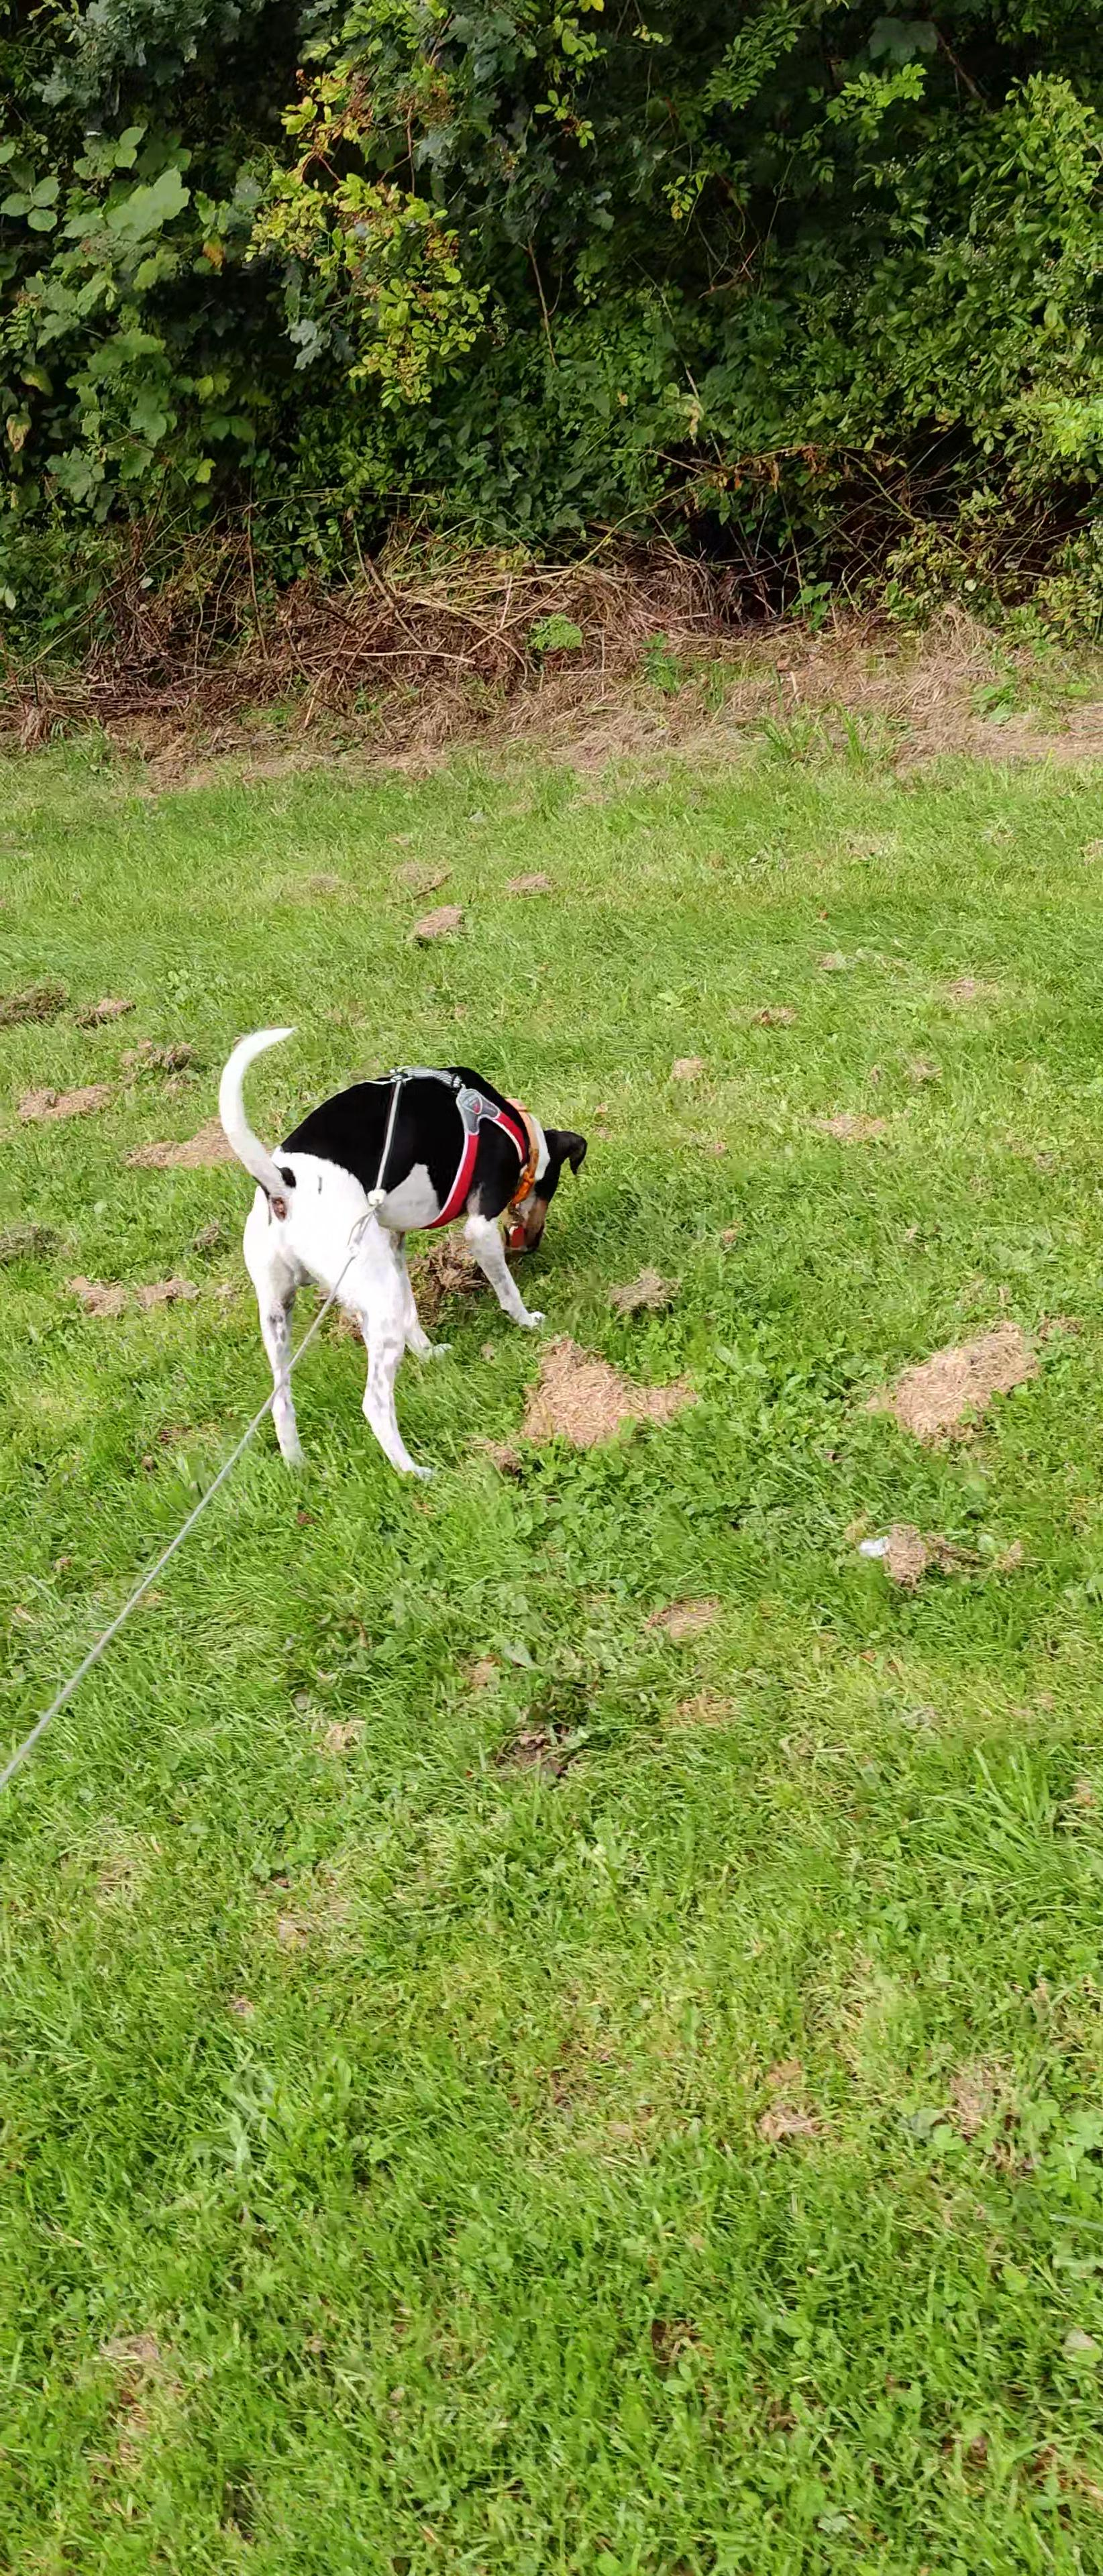Dog: (197, 1004, 600, 1493)
